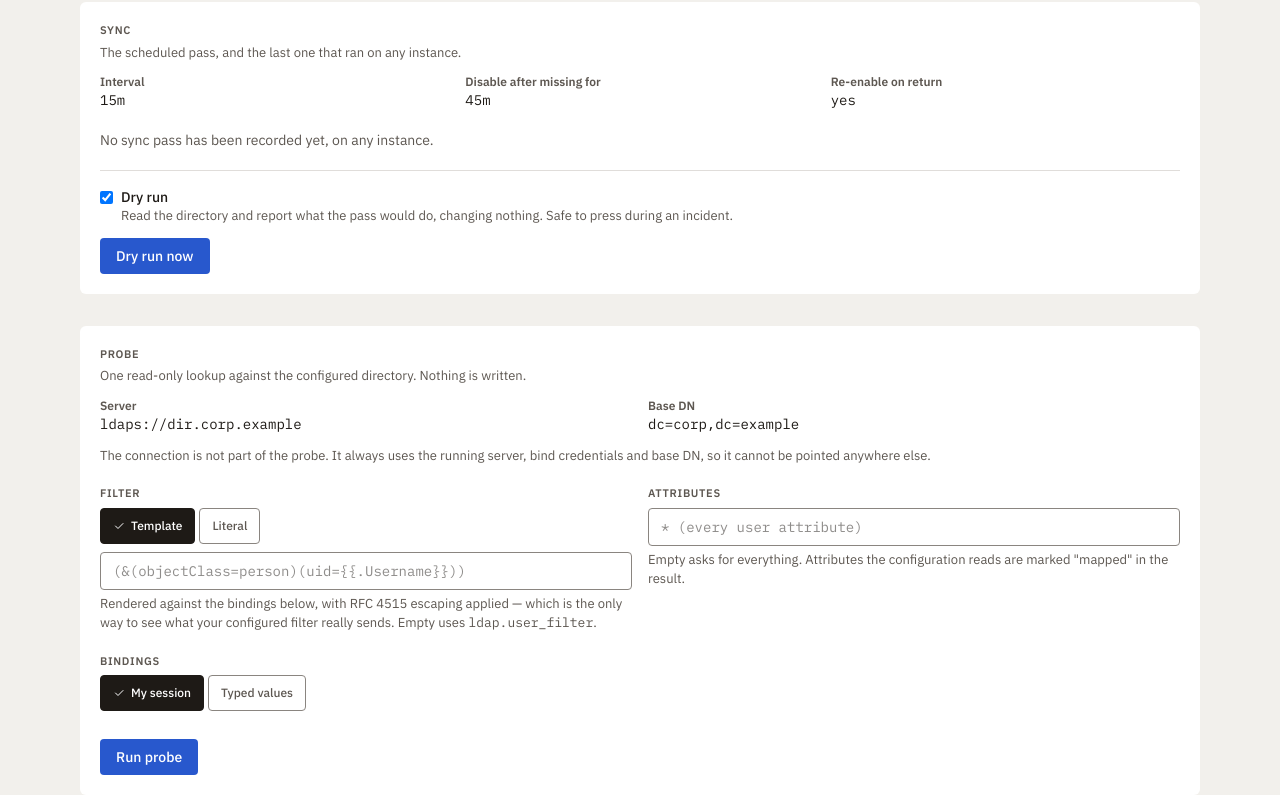
Directory admin page › the probe console › should name the attribute the entry is anchored on
(page scrolled)
Click the button with test id "ldap-run-probe".
click(149, 757)  # box [100, 739, 198, 775]
(page scrolled)
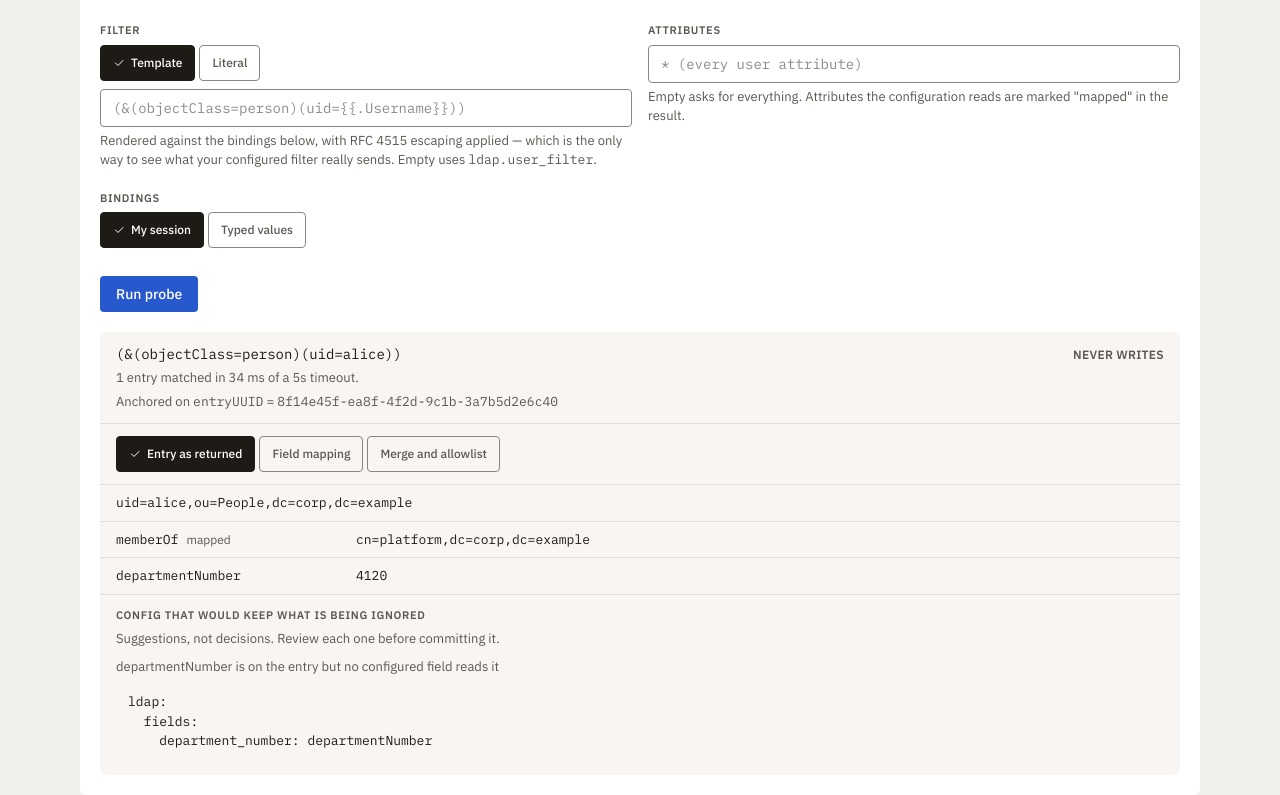
Expected: the element with test id "ldap-probe-identifier" shows "entryUUID", [193, 393, 263, 410]
